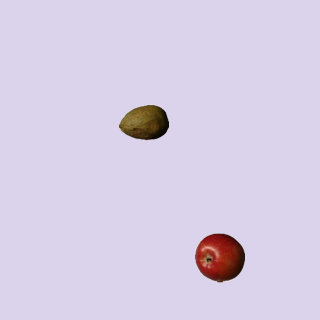Apple Braeburn: (194, 232, 244, 282)
Papaya: (118, 97, 168, 147)
